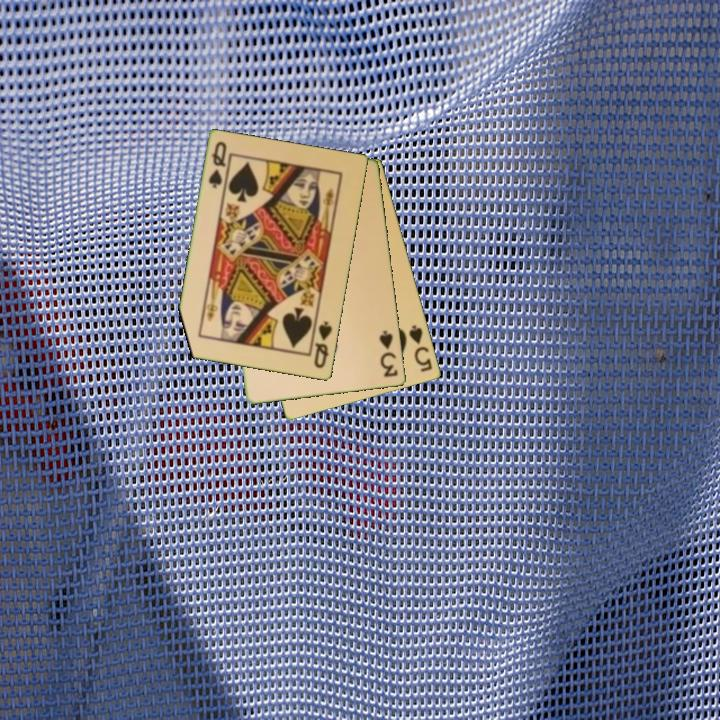3s: (376, 327, 401, 380)
5s: (406, 321, 435, 375)
Qs: (205, 138, 230, 191), (311, 318, 335, 372)
